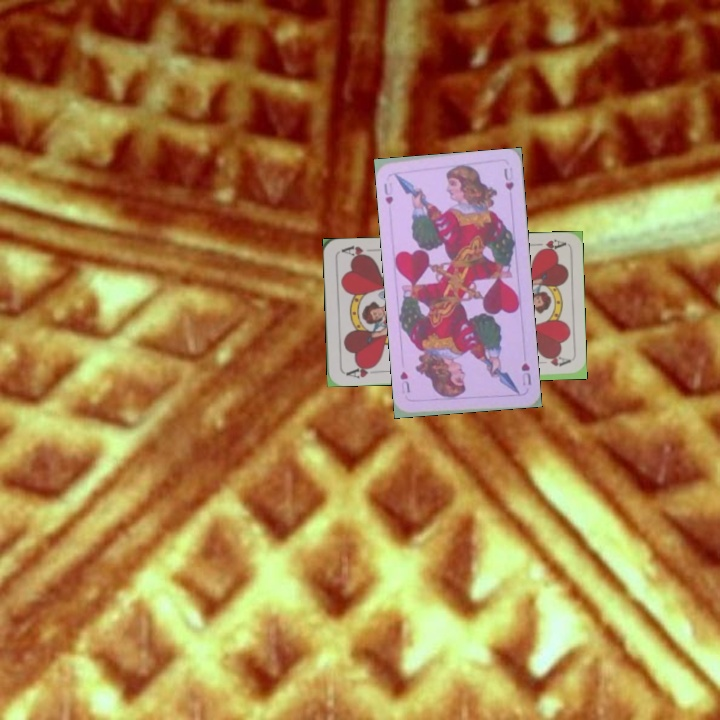HA: (526, 235, 567, 255), (342, 361, 382, 381)
HU: (517, 359, 534, 388), (380, 178, 396, 207)
